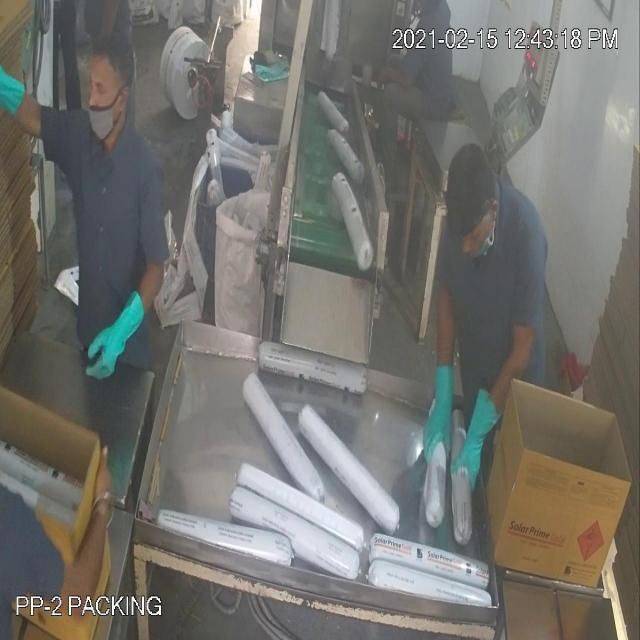Gloves: (37, 36, 475, 443)
